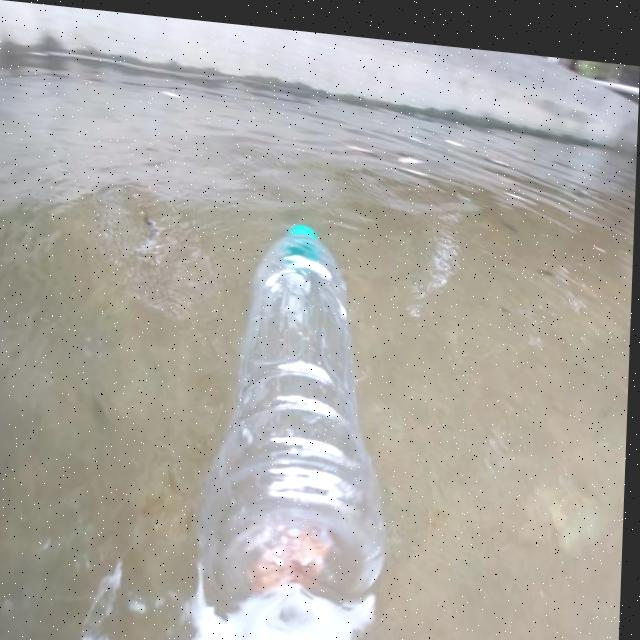waterbottle: (183, 190, 403, 640)
